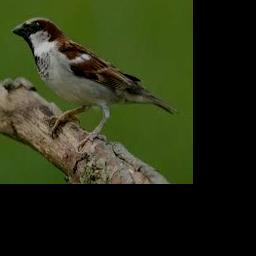Sparrow: (12, 17, 181, 150)
